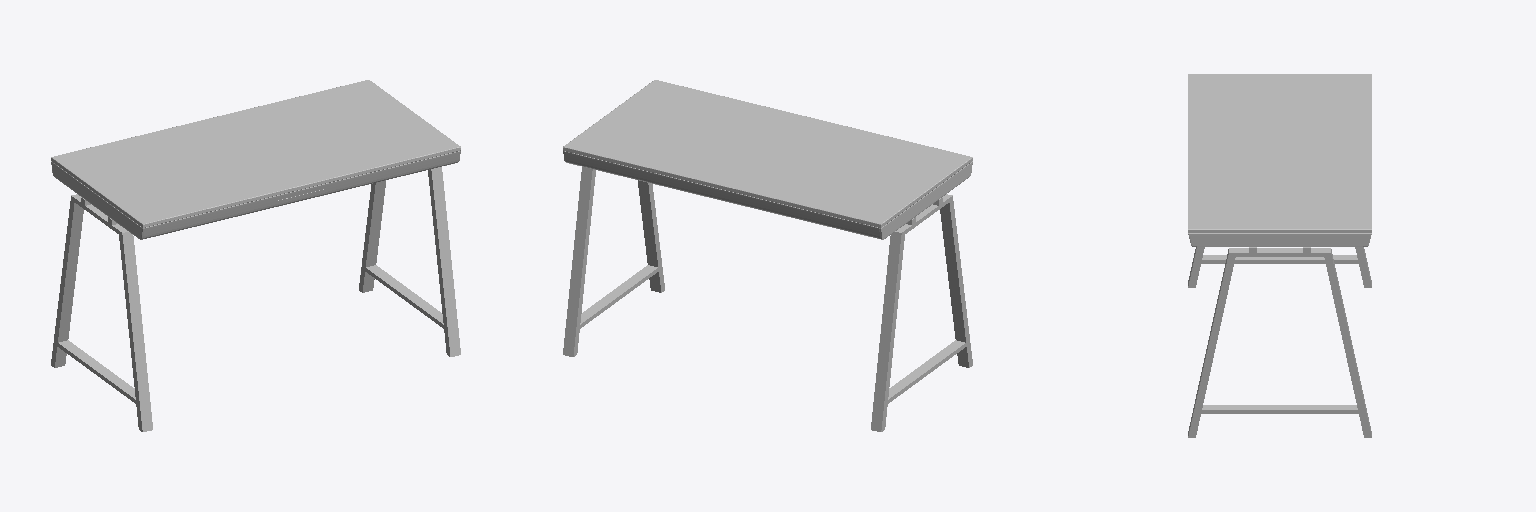
Rendered from StudioDesk.obj.
3 renders of one model, left to right at view 1: azimuth 30°, elevation 25°; view 2: azimuth 150°, elevation 25°; view 3: azimuth 270°, elevation 25°, orthographic.
Parts seen in each view (by area): view 1: StudioDesk; view 2: StudioDesk; view 3: StudioDesk.
Boxes of the visible parts, x1,y1,x2,y2 form: StudioDesk: [51, 80, 460, 431]; StudioDesk: [563, 80, 972, 431]; StudioDesk: [1188, 74, 1371, 437].
Size of the model in its own units: 1.2 by 0.75 by 0.6018.